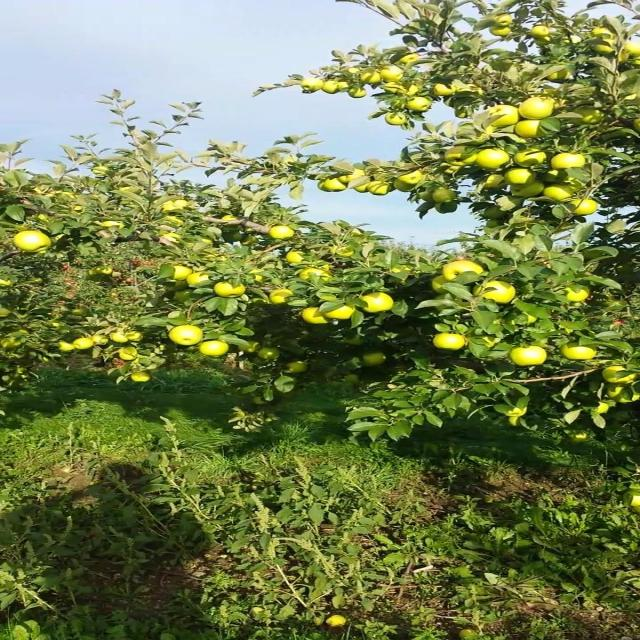apple: (13, 232, 52, 253), (518, 100, 555, 120), (511, 348, 548, 367), (483, 284, 516, 304), (170, 328, 206, 345), (490, 108, 519, 128), (561, 344, 597, 360), (476, 152, 512, 168), (547, 184, 578, 202), (447, 148, 476, 167), (604, 368, 638, 384), (433, 336, 468, 351), (447, 264, 484, 278), (362, 296, 393, 312), (504, 168, 535, 184), (518, 120, 544, 139), (511, 184, 546, 198), (518, 152, 548, 168), (326, 304, 356, 320), (554, 156, 587, 169), (540, 172, 571, 184), (198, 344, 228, 356), (362, 352, 386, 367), (305, 308, 327, 324), (575, 200, 597, 216), (220, 284, 247, 297), (163, 200, 190, 213), (319, 180, 348, 192), (433, 276, 452, 293), (618, 388, 638, 404), (476, 128, 496, 144), (269, 228, 295, 240), (547, 68, 571, 81), (305, 268, 332, 279), (269, 292, 293, 304), (340, 172, 364, 184), (568, 288, 590, 301), (483, 176, 505, 189), (404, 172, 427, 184), (461, 84, 484, 96), (433, 192, 455, 204), (348, 88, 370, 100), (369, 184, 391, 196), (412, 100, 434, 112), (362, 72, 384, 84), (433, 84, 455, 96), (568, 432, 590, 444), (582, 112, 604, 124), (440, 164, 464, 175), (483, 208, 505, 220), (326, 80, 343, 95), (383, 68, 404, 80), (390, 268, 412, 279), (618, 52, 638, 64), (262, 348, 281, 360), (596, 28, 617, 38), (596, 44, 615, 55), (333, 248, 356, 257), (305, 80, 322, 92), (404, 84, 421, 96), (483, 336, 500, 348), (611, 388, 626, 401), (177, 268, 192, 280), (291, 252, 306, 264), (106, 220, 126, 229), (490, 28, 512, 36), (596, 404, 612, 415), (92, 268, 114, 276), (383, 84, 402, 93), (440, 204, 457, 214), (191, 276, 206, 287), (177, 292, 192, 303), (241, 344, 261, 352), (348, 336, 364, 346), (291, 188, 304, 200), (390, 268, 412, 275), (532, 28, 549, 37), (291, 364, 308, 373), (397, 184, 416, 192), (120, 352, 137, 360), (77, 340, 92, 349), (390, 116, 405, 125), (419, 192, 434, 201), (127, 332, 142, 341), (340, 176, 356, 184), (92, 168, 108, 176), (497, 16, 512, 24), (113, 336, 128, 344), (511, 408, 526, 416), (355, 184, 370, 192), (163, 236, 183, 242), (129, 332, 142, 341), (166, 220, 185, 226), (404, 56, 420, 63), (525, 316, 539, 324), (134, 376, 149, 383), (63, 344, 75, 352), (255, 276, 267, 283), (632, 44, 639, 56), (540, 40, 553, 46), (227, 216, 238, 223), (511, 420, 519, 427), (99, 336, 107, 343), (77, 312, 85, 316)
